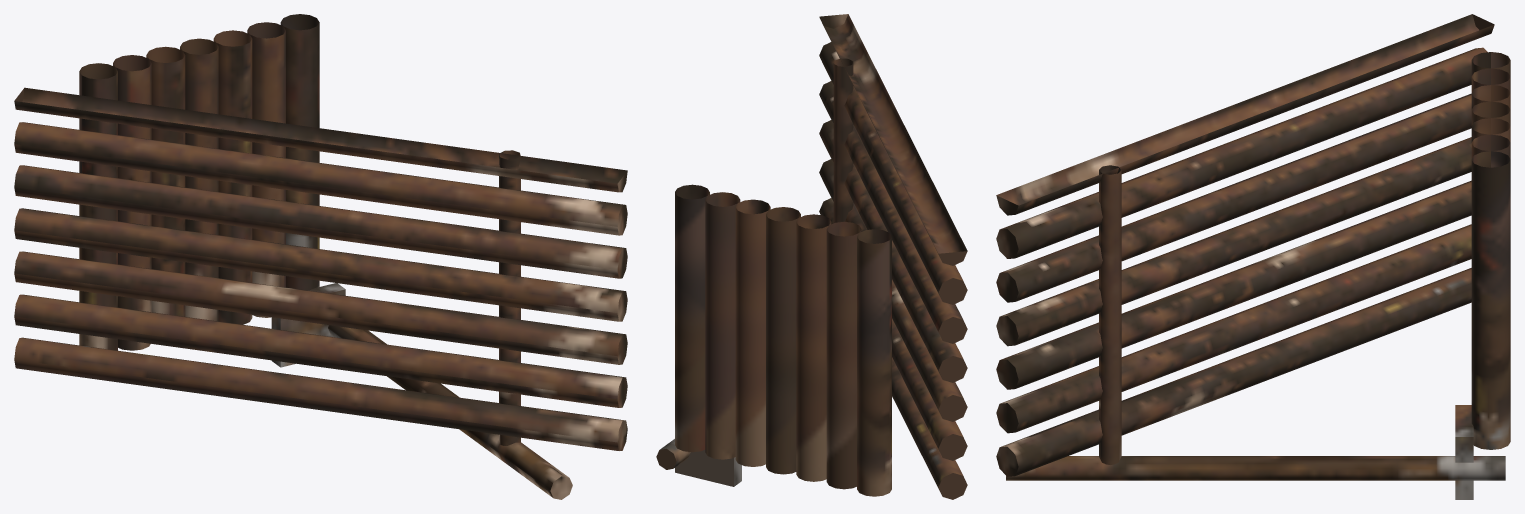
The model's file is section-5.obj.
3 views of the same model, side by side, from view 1: azimuth 30°, elevation 25°; view 2: azimuth 150°, elevation 25°; view 3: azimuth 270°, elevation 25° (orthographic). The views are drawn at different scales.
Size of the model in its own units: 1.27 by 1.01 by 1.45.
1 material, 1 textured.
